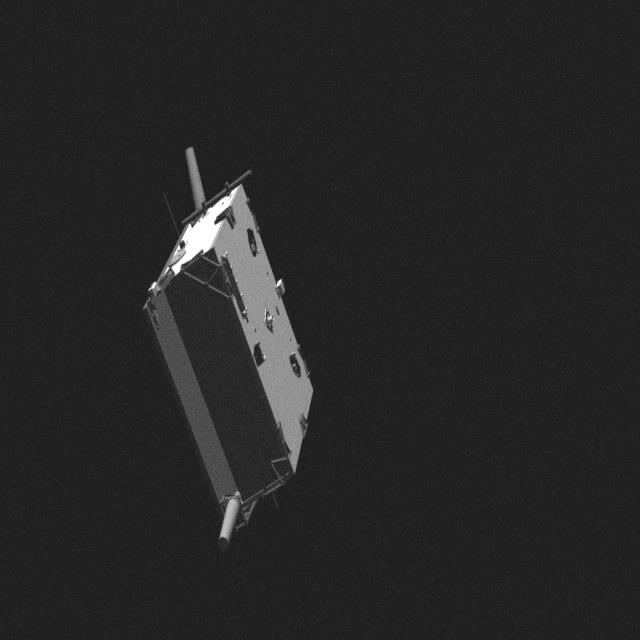medium_debris: (142, 138, 326, 546)
